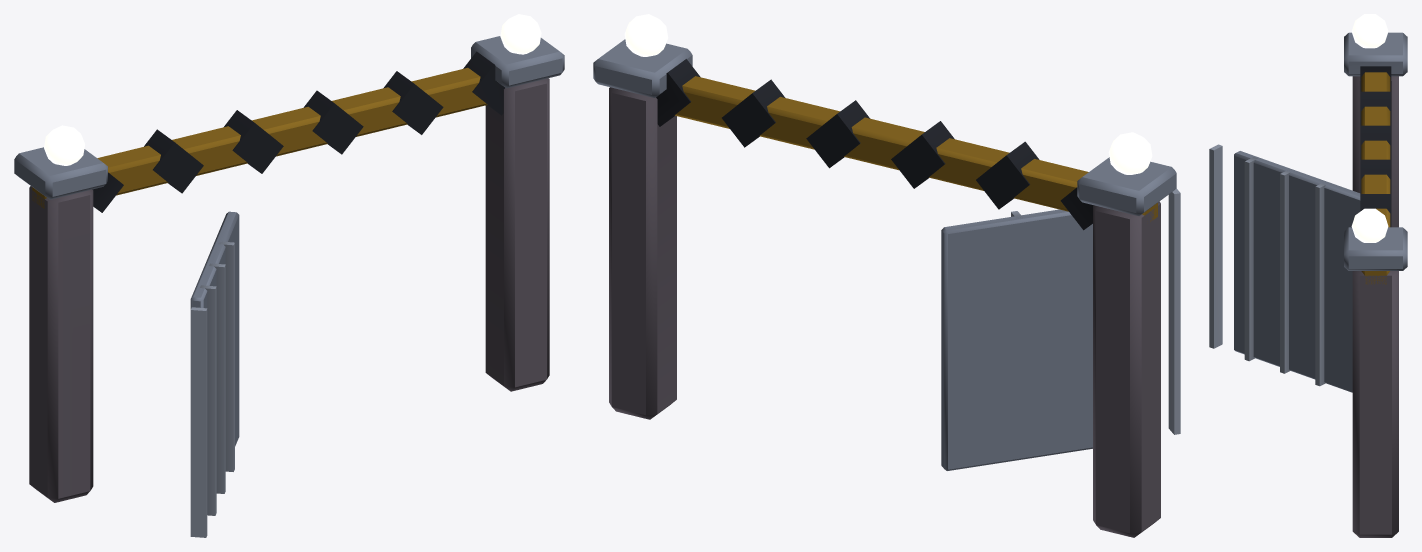
Rendered from sv_gate.glb.
The picture shows the model from 3 angles, left to right: view 1: azimuth 30°, elevation 25°; view 2: azimuth 150°, elevation 25°; view 3: azimuth 270°, elevation 25°; orthographic projection. The views are drawn at different scales.
Parts seen in each view (by area): view 1: body, lamp_glow; view 2: body, lamp_glow; view 3: body, lamp_glow.
Part boxes in pixels (x1=…): body: x1=14, y1=36, x2=564, y2=537; lamp_glow: x1=44, y1=14, x2=541, y2=165; body: x1=593, y1=39, x2=1180, y2=537; lamp_glow: x1=624, y1=14, x2=1152, y2=174; body: x1=1209, y1=32, x2=1407, y2=537; lamp_glow: x1=1351, y1=14, x2=1388, y2=242.
Bounding box in the file's own units: 4.55 × 3.08 × 1.72.
